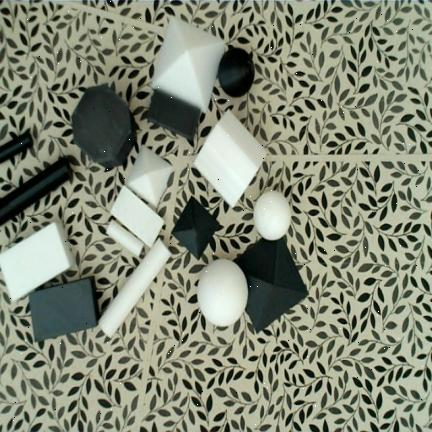Cilindro: (99, 236, 172, 337), (1, 159, 72, 225), (106, 218, 144, 257), (1, 132, 33, 163)
Esfera: (198, 260, 248, 327), (254, 192, 291, 240), (218, 49, 254, 97)
Paralelepipedo: (1, 220, 74, 302), (28, 275, 99, 343), (110, 185, 163, 248), (148, 91, 200, 140)
Piramide: (150, 16, 227, 113), (233, 237, 308, 332), (172, 195, 220, 260), (126, 147, 174, 207)
Prisma_hexagonal: (194, 112, 268, 207), (71, 85, 136, 169)
